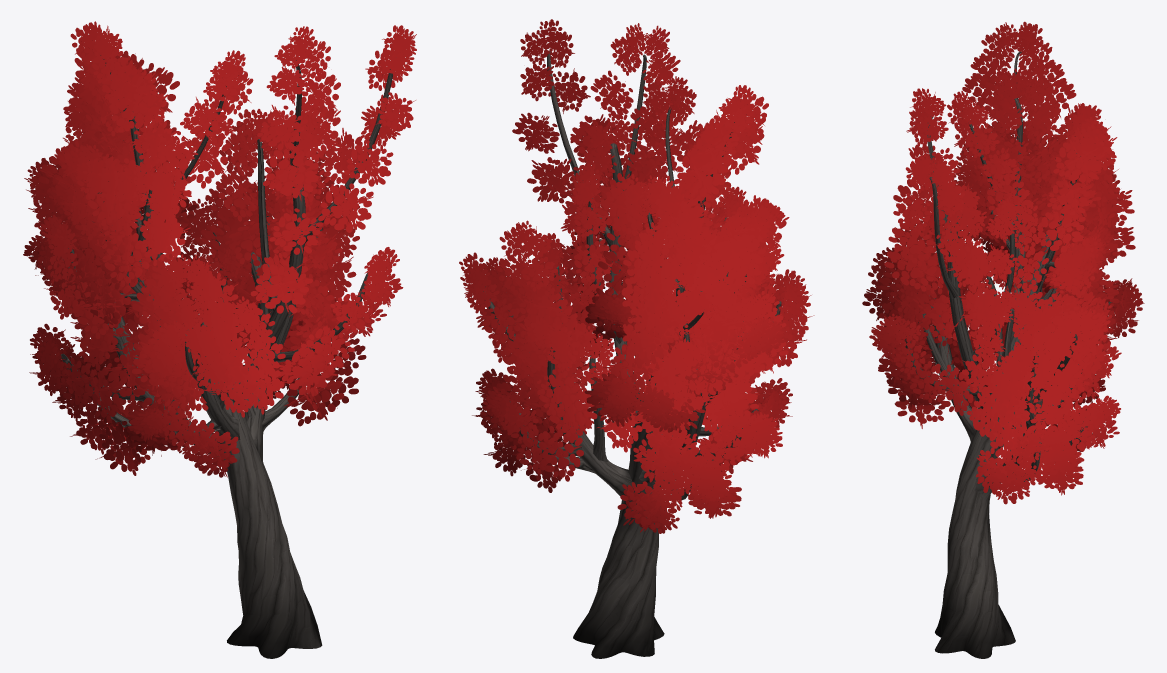
File: TwistedTree_2.gltf
3 renders of one model, left to right at view 1: azimuth 30°, elevation 25°; view 2: azimuth 150°, elevation 25°; view 3: azimuth 270°, elevation 25°, orthographic. The views are drawn at different scales.
Parts seen in each view (by area): view 1: TwistedTree_2; view 2: TwistedTree_2; view 3: TwistedTree_2.
Part boxes in pixels (x1=…): TwistedTree_2: x1=23, y1=21, x2=416, y2=658; TwistedTree_2: x1=459, y1=19, x2=814, y2=658; TwistedTree_2: x1=862, y1=21, x2=1144, y2=658.
Size of the model in its own units: 10.56 by 18.95 by 9.2.
Materials: 2 (2 with a texture image).
